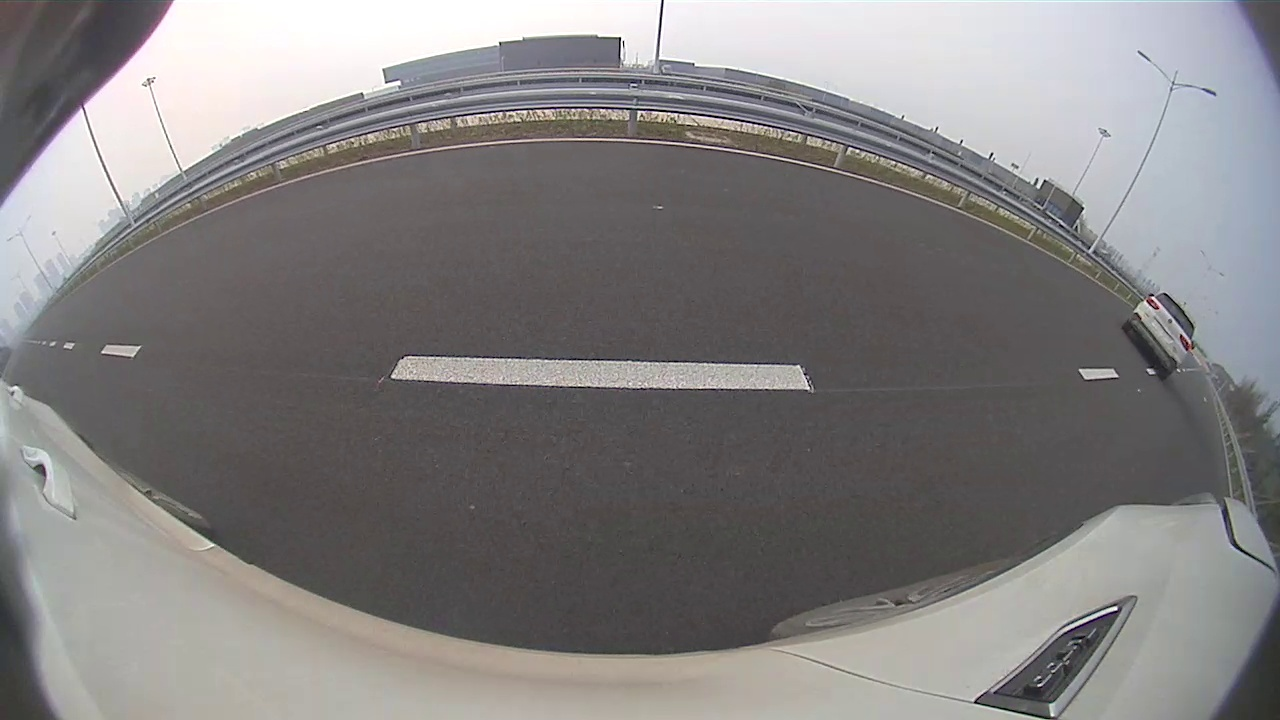car: (1122, 291, 1197, 380)
